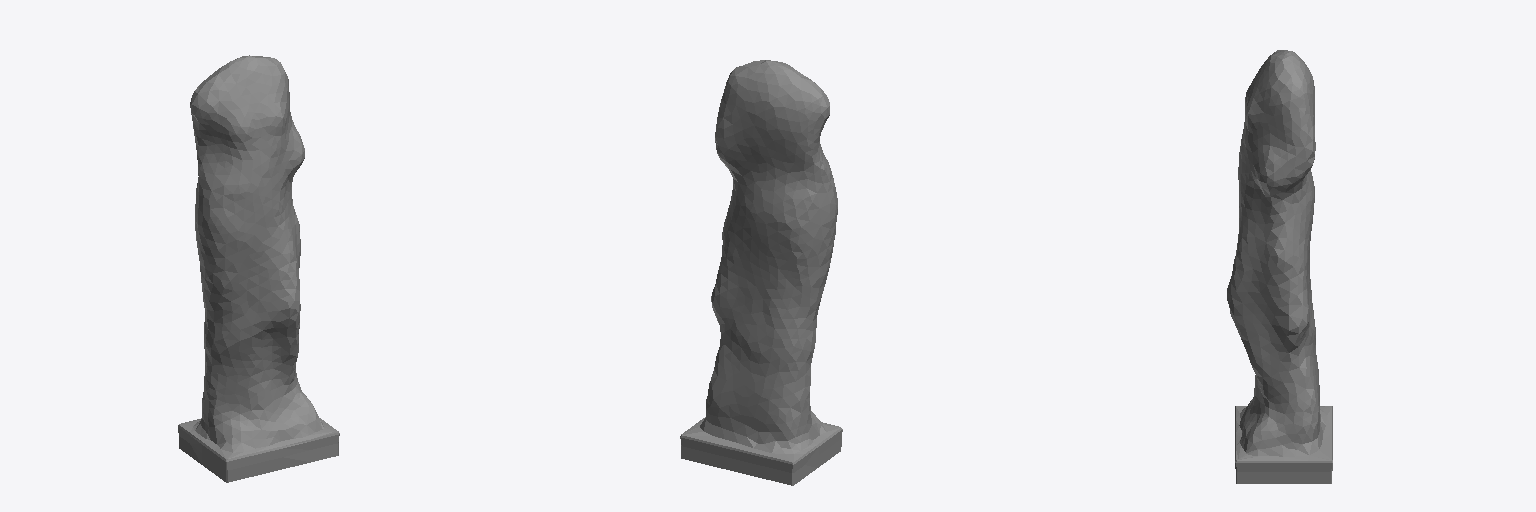
File: greek_woman_low.obj
The picture shows the model from 3 angles: view 1: azimuth 30°, elevation 25°; view 2: azimuth 150°, elevation 25°; view 3: azimuth 270°, elevation 25°; orthographic projection.
Parts seen in each view (by area): view 1: greek_woman_statue; view 2: greek_woman_statue; view 3: greek_woman_statue.
Boxes of the visible parts, x1=… form: greek_woman_statue: x1=178, y1=55, x2=339, y2=482; greek_woman_statue: x1=680, y1=60, x2=842, y2=485; greek_woman_statue: x1=1227, y1=50, x2=1332, y2=483.
Bounding box in the file's own units: 8.28 × 25.37 × 6.16.